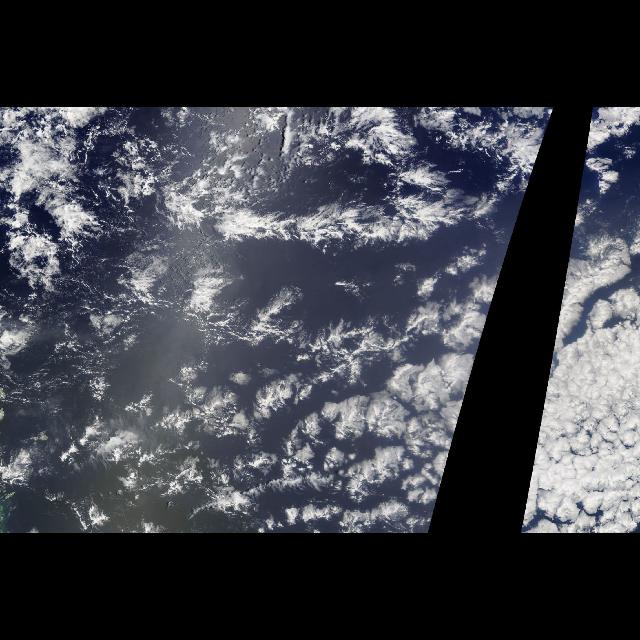Flower: (124, 301, 476, 533)
